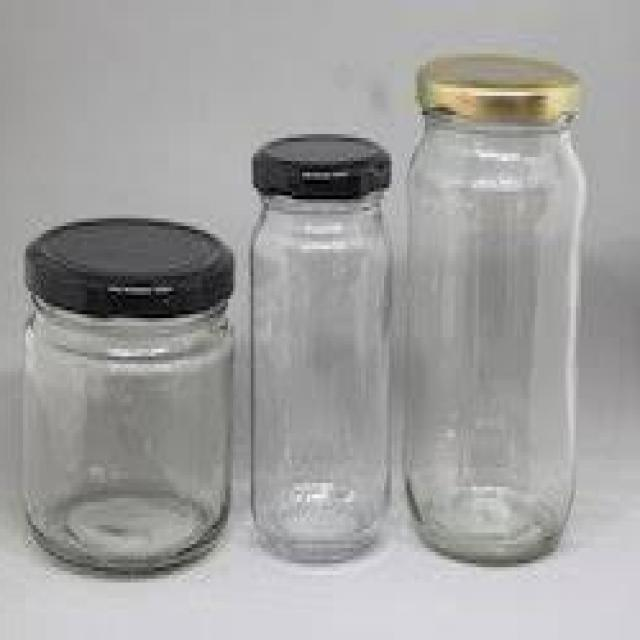glass: (396, 50, 596, 571), (11, 208, 242, 584), (242, 124, 398, 566)
